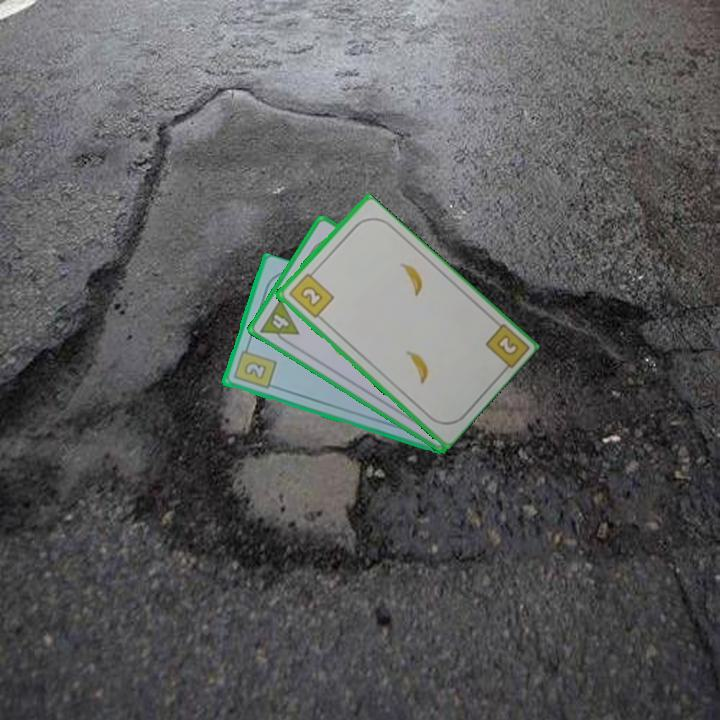2b: (285, 266, 336, 321), (230, 342, 279, 392), (492, 331, 521, 359)
4p: (256, 295, 302, 349)
